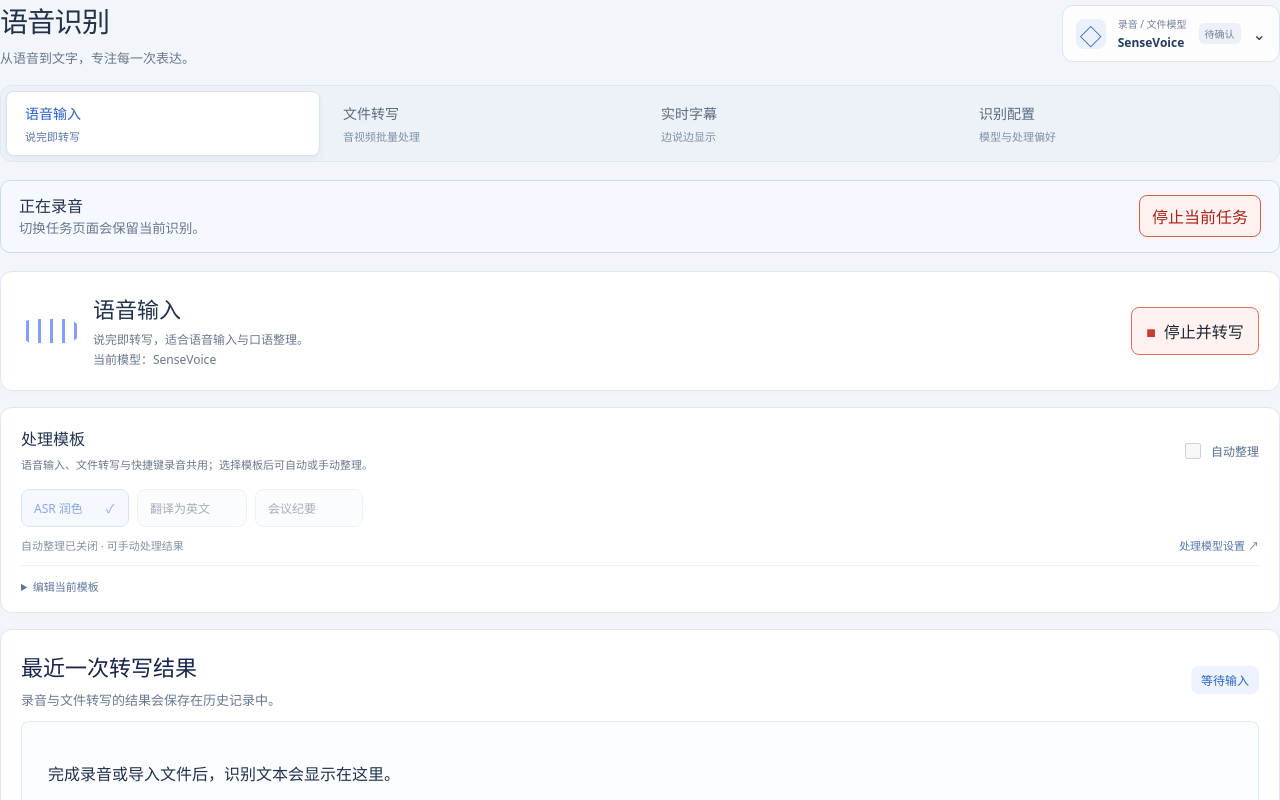
recognition task workspaces › prevents changing processing preferences during recording and keeps templates out of live captions
The image size is (1280, 800).
Expected: the checkbox named "识别后自动使用 Prompt 处理" is disabled, [1185,443,1201,459]
Expected: the button with aria-label "选择模板：" is disabled, [21,489,129,527]
What coordinates should you click on to do the following:
click the tab "实时字幕 边说边显示"
I would click on:
 (689, 114)
Its box is [642,91,956,156].
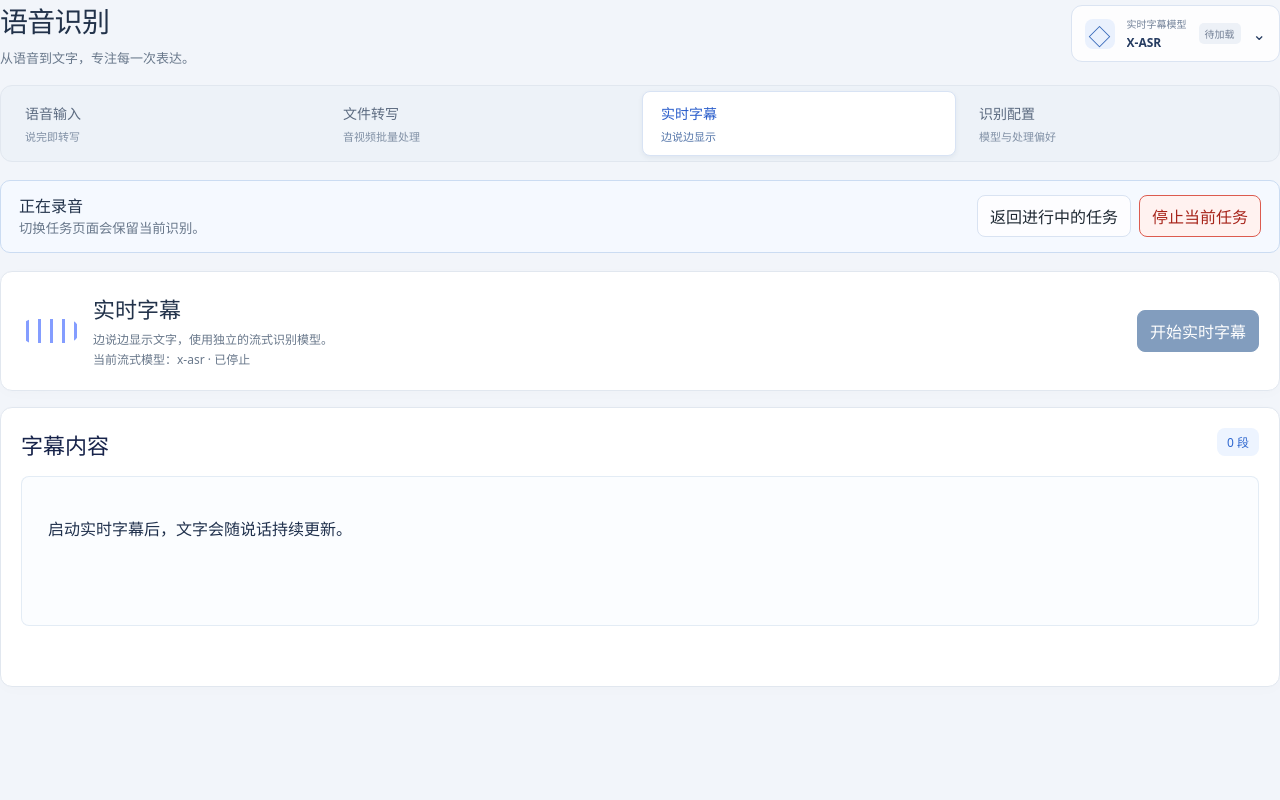
Expected: the element "识别处理模板" is gone
